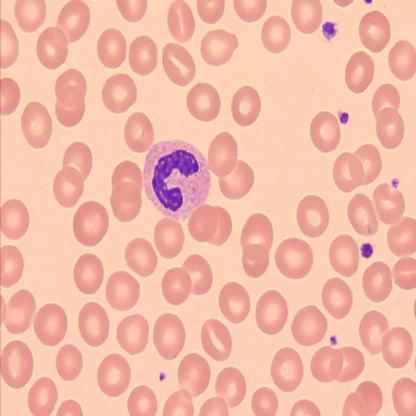Band Neutrophil: (141, 136, 214, 223)
